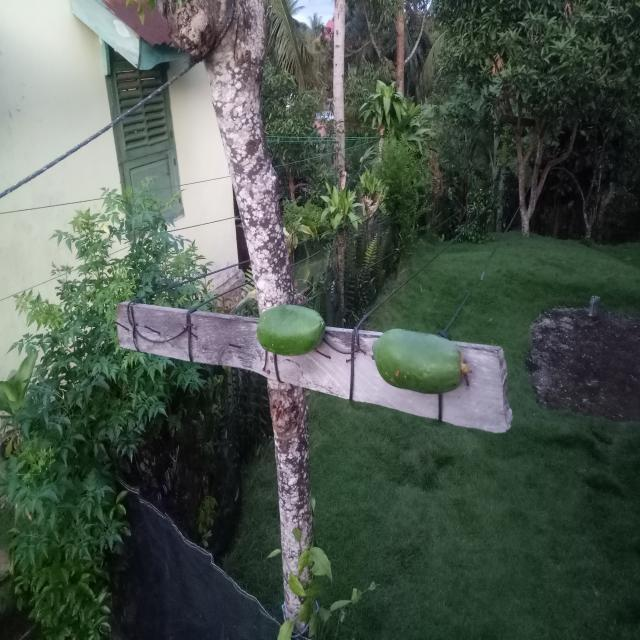Pepaya unrippen: (365, 323, 476, 399), (245, 293, 331, 366)
